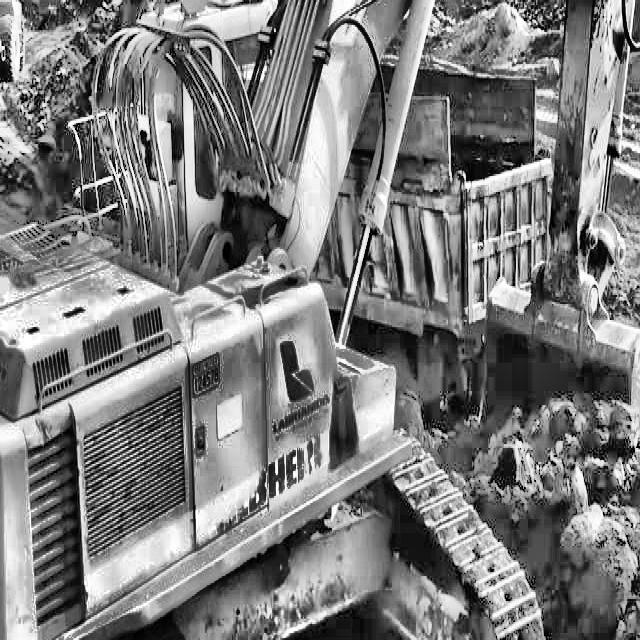dump_truck: (384, 70, 544, 380)
excavator: (0, 0, 640, 640)
